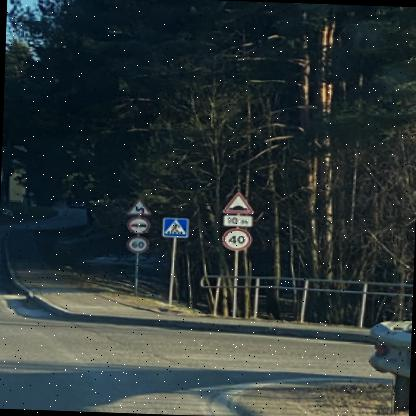crosswalk: (160, 218, 187, 236)
speedlimit: (221, 227, 249, 250), (126, 236, 148, 252)
